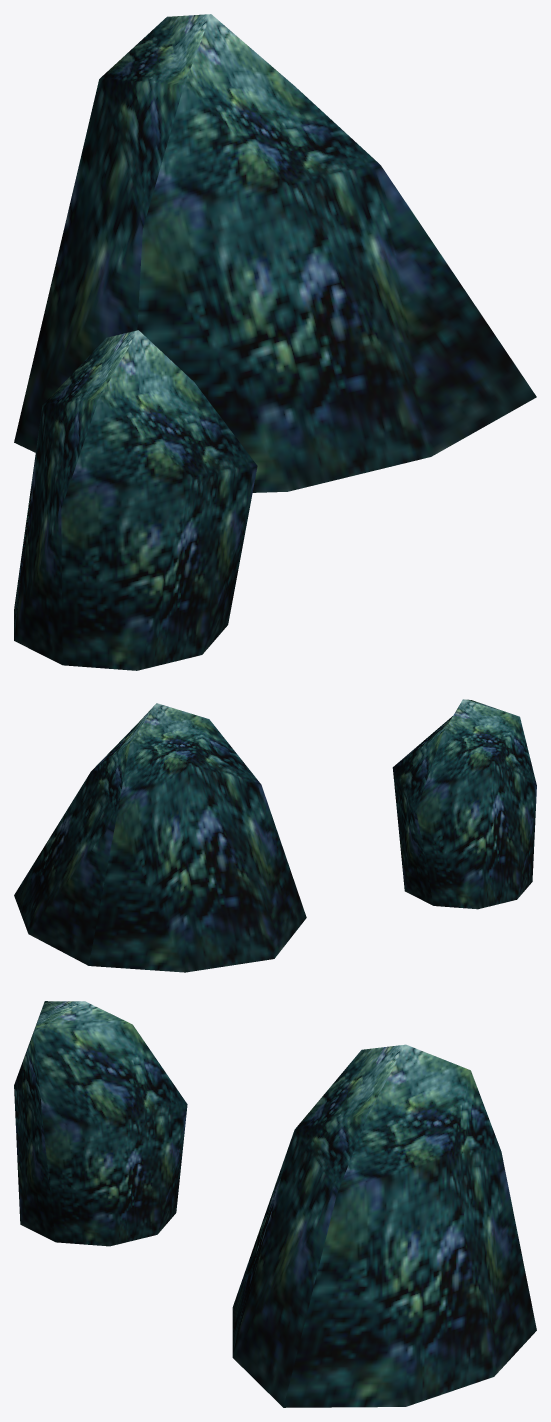
File: rocks01.obj
The picture shows the model from 3 angles, top to bottom: view 1: azimuth 30°, elevation 25°; view 2: azimuth 150°, elevation 25°; view 3: azimuth 270°, elevation 25°; orthographic projection. The views are drawn at different scales.
Parts seen in each view (by area): view 1: North_Rocks1; view 2: North_Rocks1; view 3: North_Rocks1.
Boxes of the visible parts, x1,y1,x2,y2 form: North_Rocks1: [14, 14, 536, 670]; North_Rocks1: [14, 699, 536, 972]; North_Rocks1: [14, 1001, 536, 1407].
Bounding box in the file's own units: 5.59 × 3.17 × 5.41.
1 material, 1 textured.
